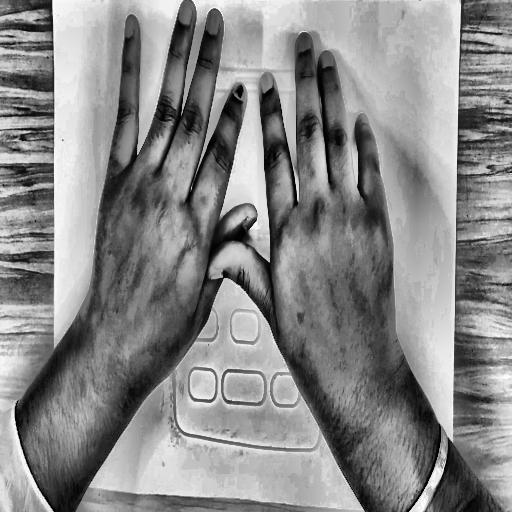bottom_left: (56, 471, 62, 483)
bottom_right: (450, 504, 455, 512)
mobile: (166, 12, 334, 461)
